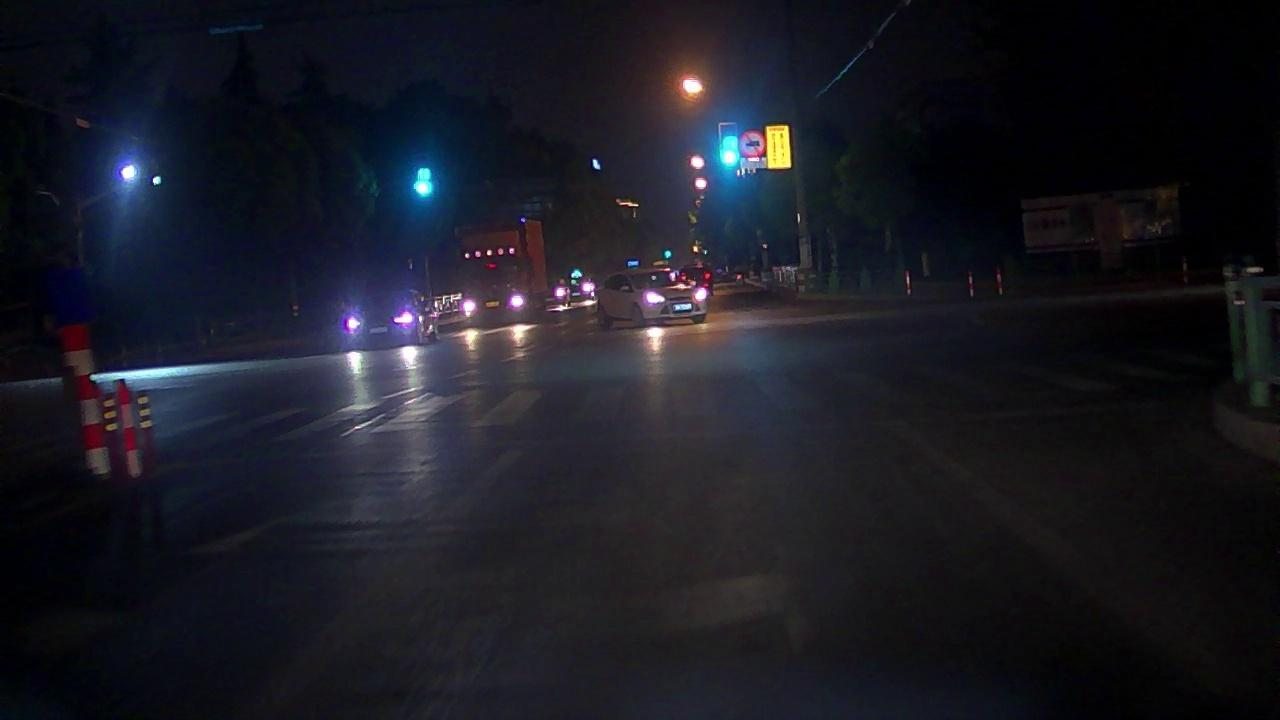traffic_light: (714, 131, 744, 169), (409, 161, 437, 200)
